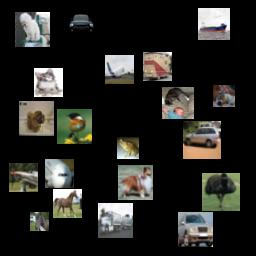airplane: (105, 55, 134, 84), (45, 159, 74, 188), (9, 163, 38, 192)
automobile: (183, 121, 221, 159), (178, 212, 213, 247), (66, 8, 98, 40)
bird: (202, 173, 240, 211), (57, 109, 92, 144)
cat: (162, 87, 194, 119), (34, 68, 63, 97), (213, 85, 235, 107)
dog: (19, 101, 54, 136), (118, 165, 153, 200), (15, 12, 50, 47)
frog: (117, 137, 139, 159)
ship: (198, 8, 230, 40)
truck: (98, 203, 133, 238), (143, 52, 172, 81)
